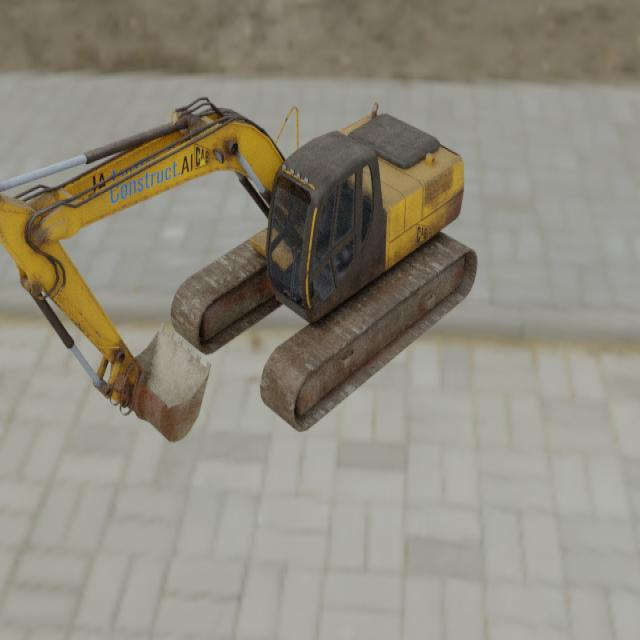excavator: (0, 96, 479, 443)
